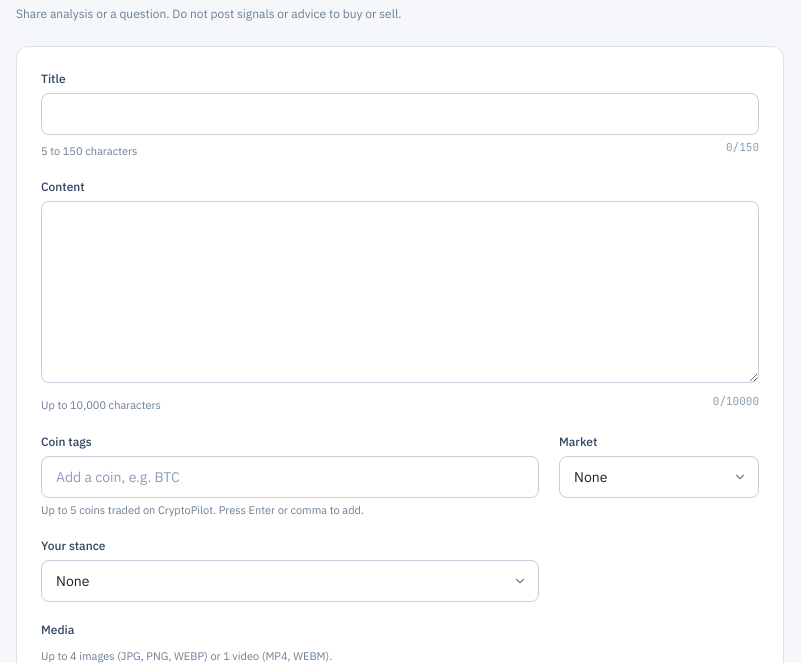
Scenario: community screens › locks video on a plan without VIDEO_POST and shows MSG32 from the server
This screenshot has width=801, height=663.
Type "A valid title" into the field labelled "Title" at (400, 114), box [41,92,759,134]
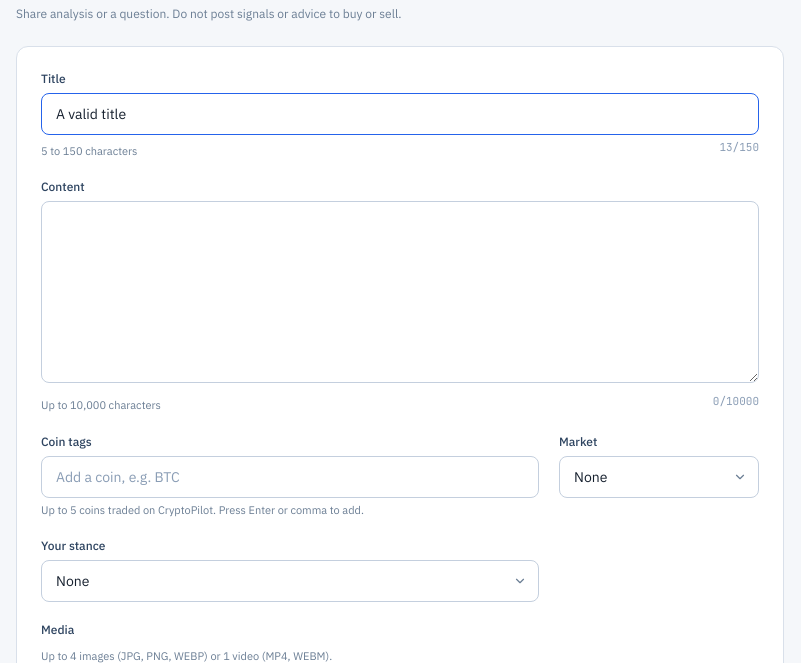
Type "Some text" into the text box labelled "Content" at (400, 292), box [41,201,759,383]
(page scrolled)
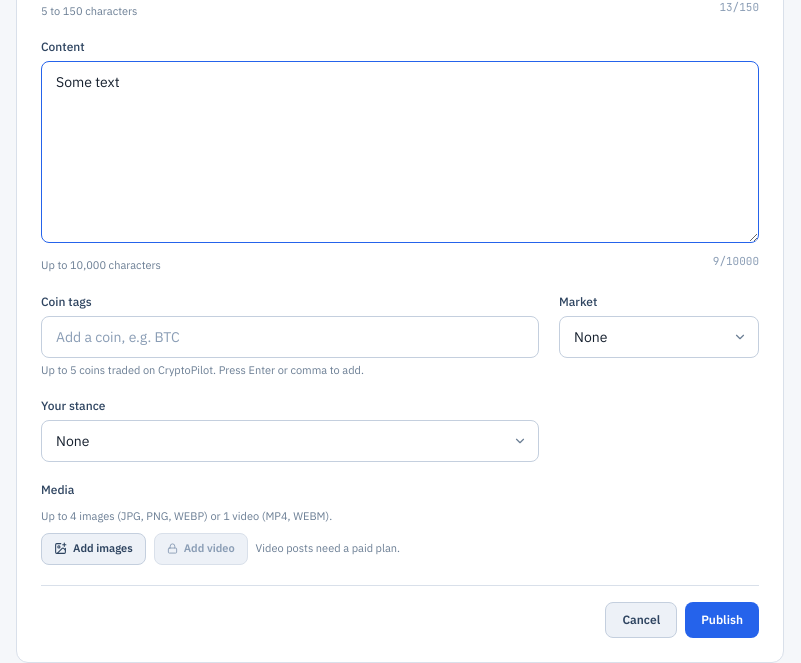
Click the button "Publish" at (722, 620), box [685,602,759,638]
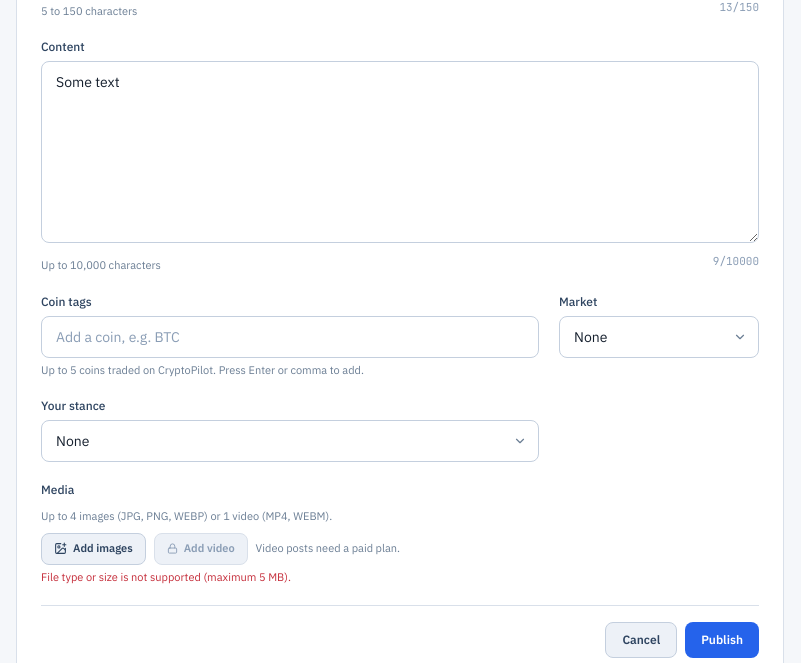
Check: the text "File type or size is not supported (maximum 5 MB)." is shown, box [41,570,291,584]
